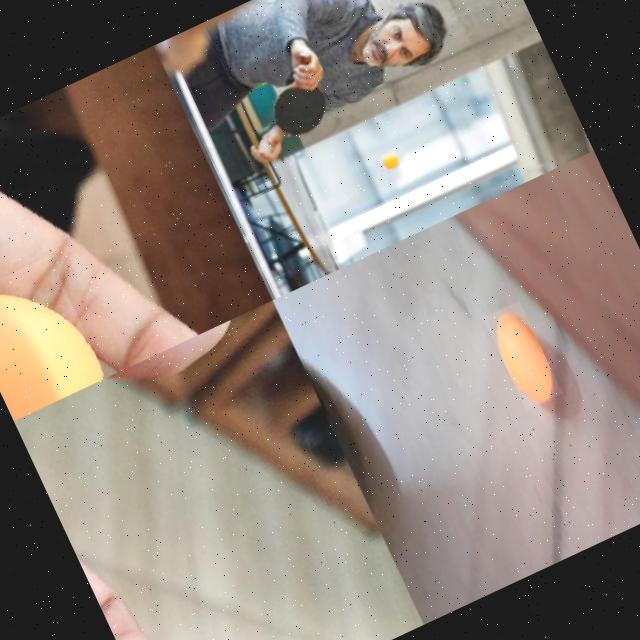ping-pong-ball: (0, 254, 107, 419), (482, 298, 564, 411), (379, 148, 400, 170)
